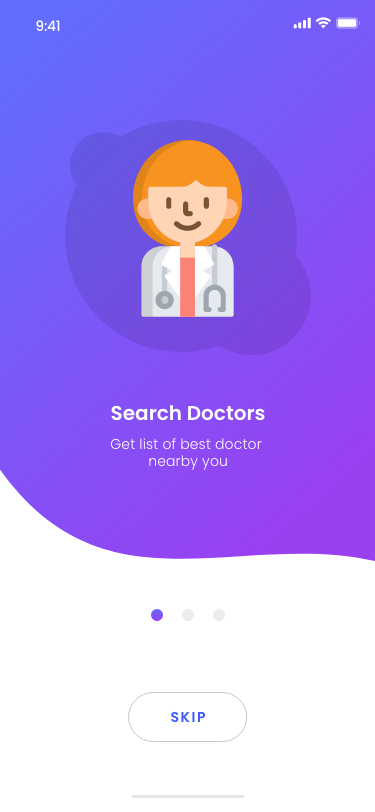Image: (132, 140, 243, 318)
PageIndicator: (150, 608, 227, 623)
Text: (110, 437, 263, 472), (111, 404, 266, 423)
TextButton: (128, 692, 248, 742)
UpperTaskBar: (36, 17, 361, 31)
